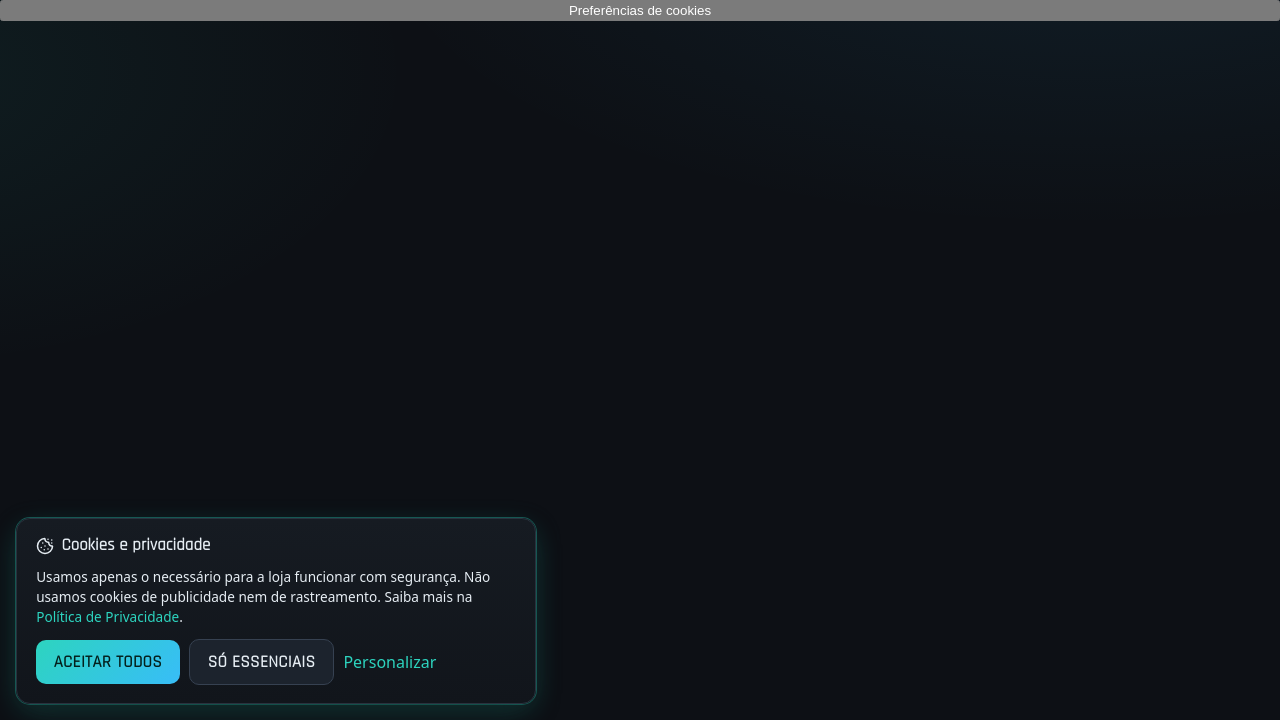
Test case: aviso de cookies › aparece na primeira visita e "Só essenciais" recusa o opcional
Click the button "Só essenciais".
click(261, 662)  # box x1=189 y1=639 x2=334 y2=685
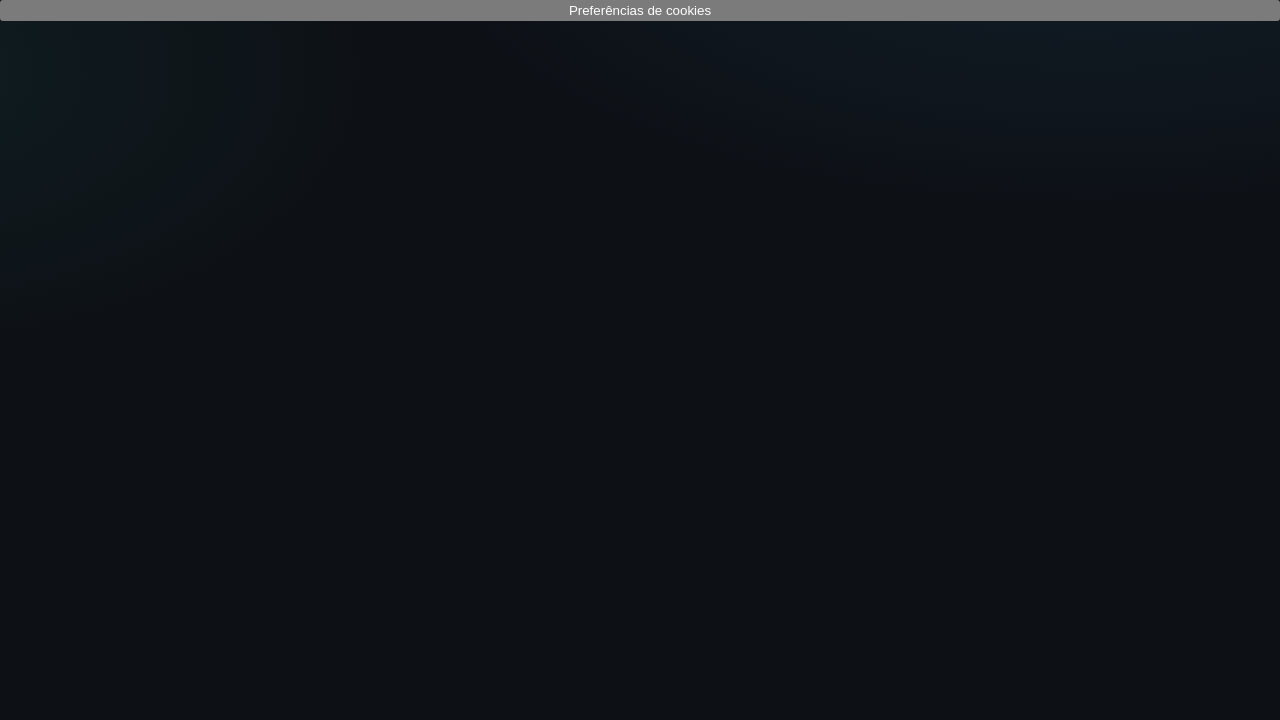
Check: the dialog is gone
